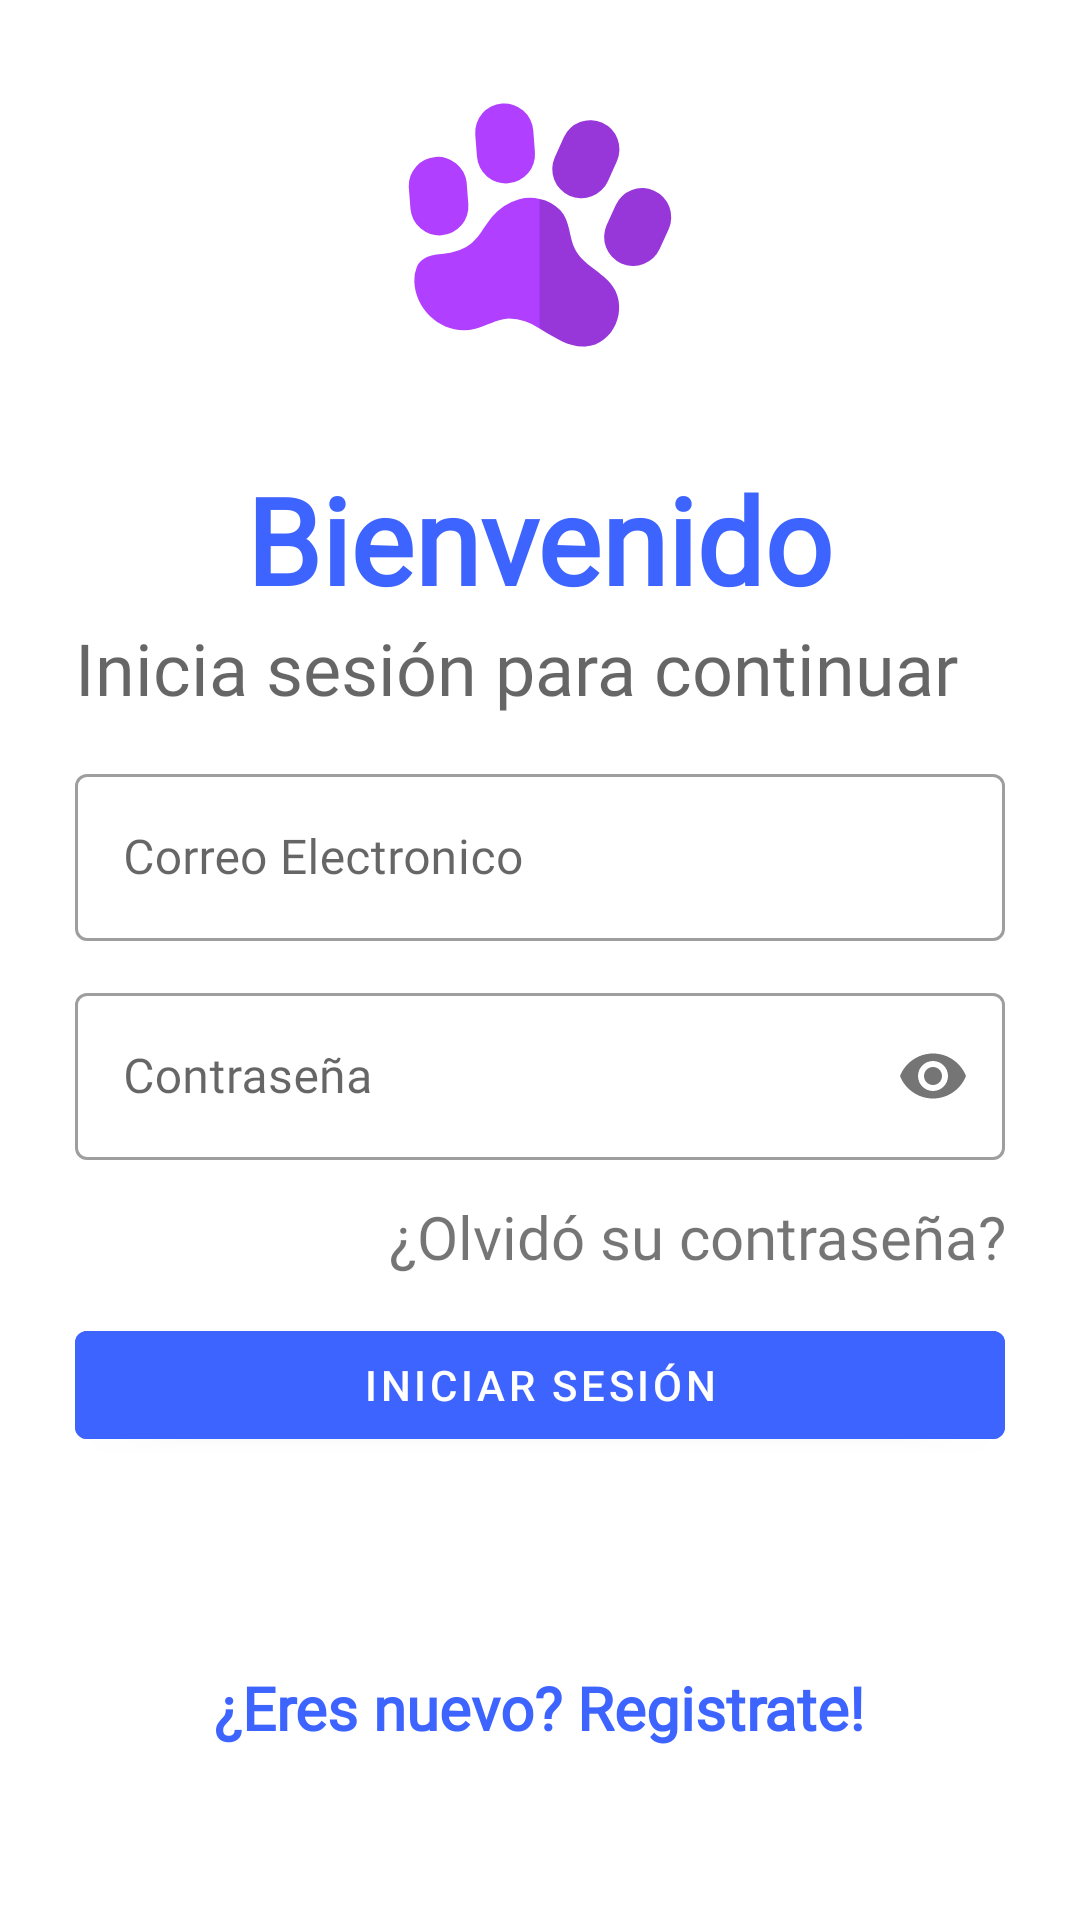

Where icons sit on this 1080px x 1920px app screen, as (x1, y1, x2, y2):
paw print animal: (408, 103, 672, 347)
